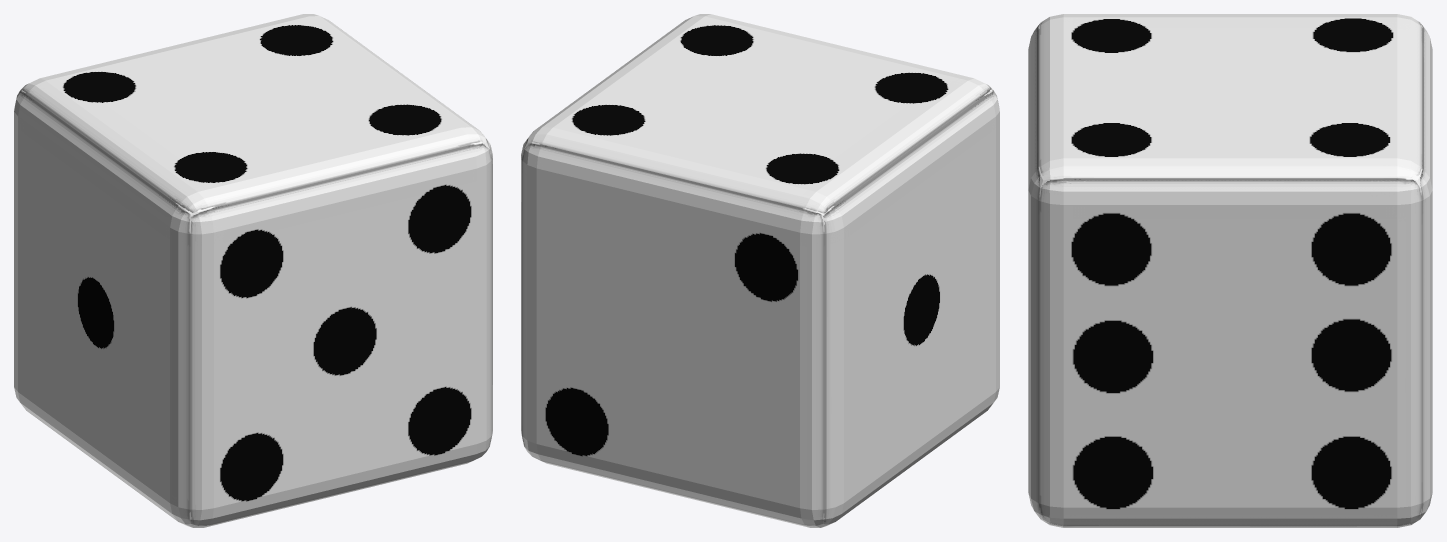
Rendered from Dice.fbx.
3 renders of one model, left to right at view 1: azimuth 30°, elevation 25°; view 2: azimuth 150°, elevation 25°; view 3: azimuth 270°, elevation 25°, orthographic. The views are drawn at different scales.
Visible parts, largest first — view 1: Cube; view 2: Cube; view 3: Cube.
Boxes of the visible parts, left/top/right/bottom form: Cube: left=14, top=14, right=492, bottom=527; Cube: left=521, top=14, right=999, bottom=527; Cube: left=1028, top=14, right=1432, bottom=527.
Size of the model in its own units: 200 by 200 by 200.
